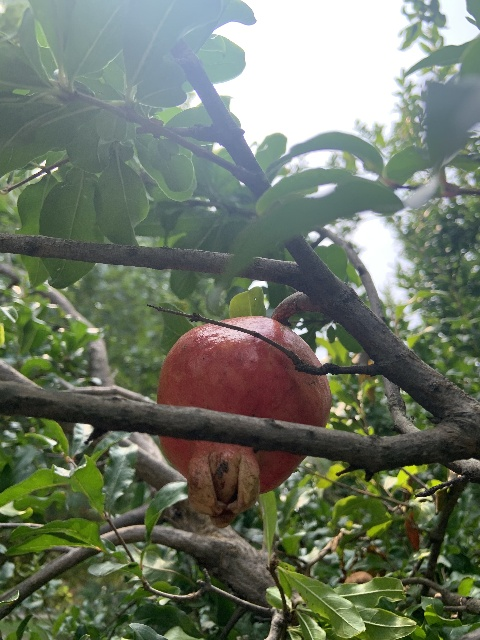ripe: (155, 314, 330, 522)
